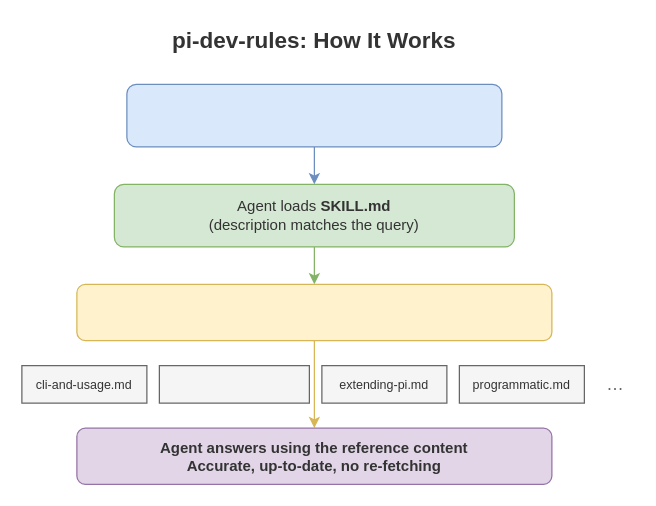
Image size: 656x506. Some labels were removed from this diagram. Here are the shapes that lost their labels. From the top down, the box of each, then its label:
(126, 83, 502, 147): User asks a Pi-related question (install, configure, extend, SDK…)
(76, 283, 552, 341): Agent consults the reference index and loads the relevant file(s):
(158, 364, 309, 403): providers-and-models.md
